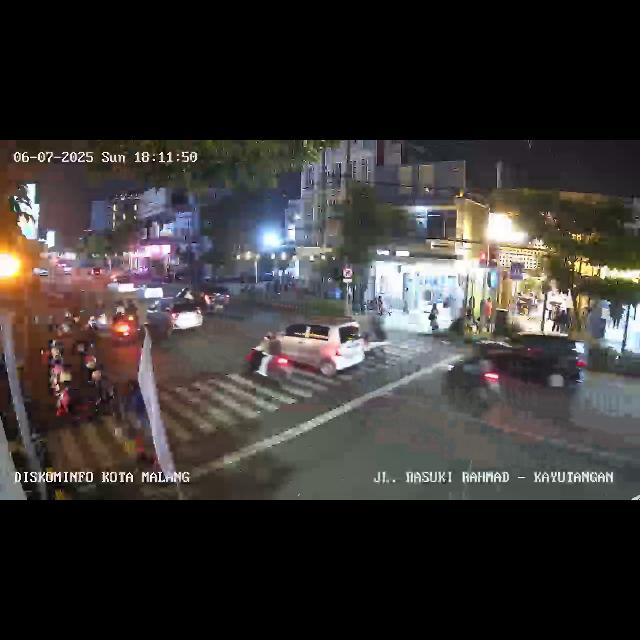car: (260, 317, 380, 387), (476, 332, 588, 392), (147, 298, 206, 334)
motorcycle: (441, 346, 504, 414), (242, 330, 298, 402), (112, 302, 144, 346), (202, 285, 230, 317)
person: (428, 304, 438, 334), (552, 303, 560, 333), (484, 297, 492, 327)
